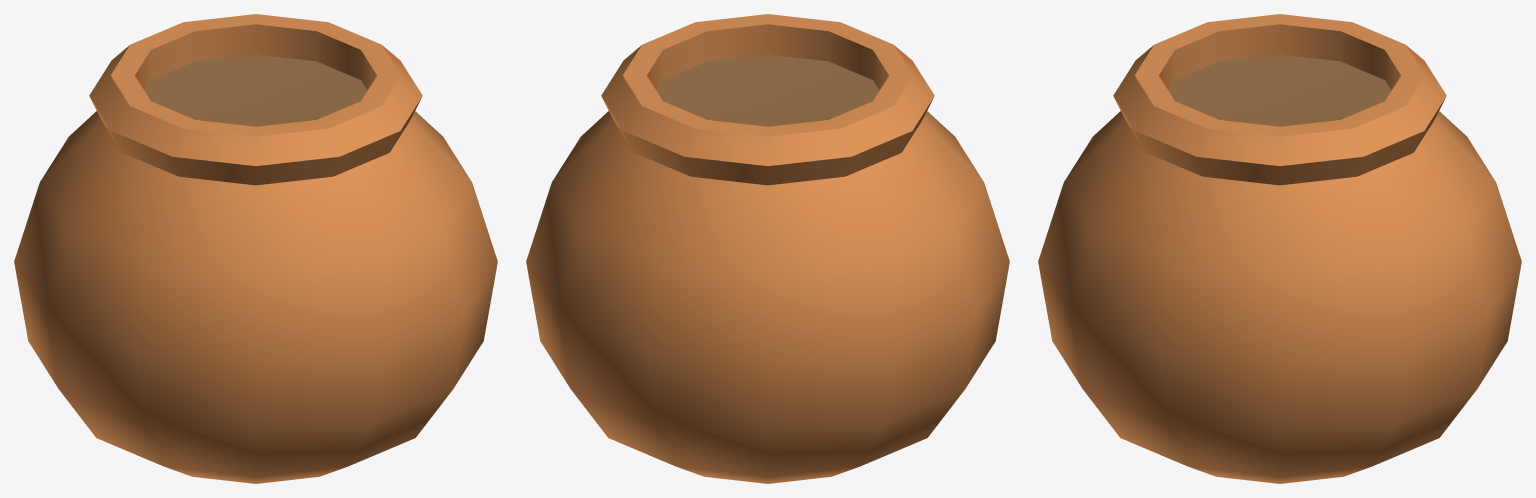
Rendered from Pot_Orange.fbx.
The picture shows the model from 3 angles, left to right: view 1: azimuth 30°, elevation 25°; view 2: azimuth 150°, elevation 25°; view 3: azimuth 270°, elevation 25°; orthographic projection.
Parts seen in each view (by area): view 1: Pot_Orange; view 2: Pot_Orange; view 3: Pot_Orange.
Boxes of the visible parts, box(x1,y1,x2,y2) form: Pot_Orange: box(14, 14, 497, 483); Pot_Orange: box(526, 14, 1009, 483); Pot_Orange: box(1038, 14, 1521, 483).
Bounding box in the file's own units: 56.26 × 45.52 × 56.26.
